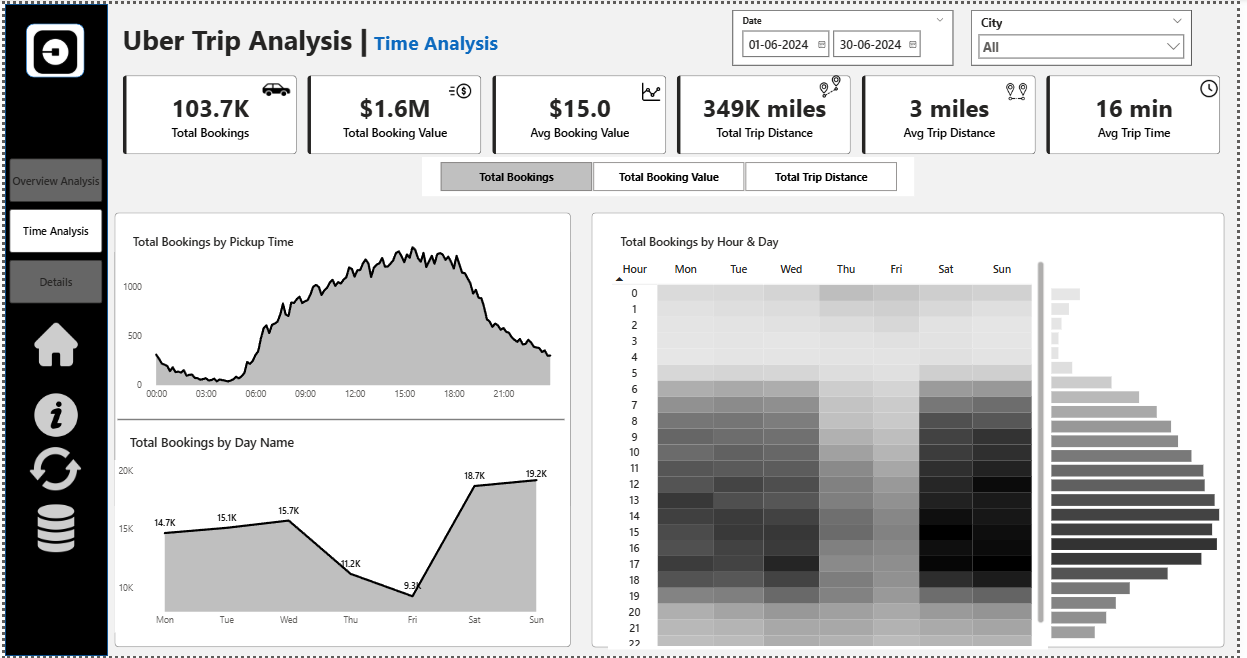

This screenshot's page, from the dashboard's own definition file:
{"tool":"powerbi","page":{"name":"Time Analysis","canvas":[1700,900],"ordinal":1},"visuals":[{"type":"shape","box":[151.2,287.8,630,600],"z":0},{"type":"shape","box":[0,0,142,900],"z":1000},{"type":"textbox","box":[157.7,17.7,607.7,66.9],"z":2000},{"type":"cardVisual","fields":{"Data":["Trip Details.Total Bookings","Trip Details.Total Booking Amount","Trip Details.Avg Booking Amount","Trip Details.Total Trip Distance","Trip Details.Avg Trip Distance","Trip Details.Avg Trip Time"]},"box":[158,93.1,1526.1,119.1],"z":3000},{"type":"image","box":[593.1,99.6,71.4,41.1],"z":4000},{"type":"image","box":[1095.3,93.1,88.8,41.1],"z":5000},{"type":"image","box":[1355.1,101.7,84.4,39],"z":6000},{"type":"image","box":[1625.7,99.6,73.6,34.6],"z":7000},{"type":"image","box":[850.7,101.7,82.3,39],"z":8000},{"type":"image","box":[316,93.1,114.7,49.8],"z":9000},{"type":"slicer","fields":{"Values":["Parameter.Parameter"]},"box":[575.6,211.2,679.2,53.8],"z":10000},{"type":"slicer","fields":{"Values":["Calendar Table.Date"]},"box":[1004.2,8.3,304.4,76.6],"z":11000},{"type":"slicer","fields":{"Values":["Location Table.City"]},"box":[1333.5,8.3,304.4,76.6],"z":12000},{"type":"areaChart","fields":{"Y":["Trip Details.Total Bookings"],"Category":["Trip Details.Pickup Hour (HH MM SS) (bins)"]},"box":[157.4,320.9,615,235],"z":13000},{"type":"cardVisual","fields":{"Data":["Trip Details.Title for by pickup time"]},"box":[159.4,292,314.7,58],"z":14000},{"type":"areaChart","fields":{"Y":["Trip Details.Total Bookings"],"Category":["Calendar Table.Day Name"]},"box":[151.2,629.5,621.2,238.1],"z":15000},{"type":"cardVisual","fields":{"Data":["Trip Details.Title for by Day Name"]},"box":[155.3,567.3,331.3,62.1],"z":16000},{"type":"shape","box":[155.3,559.1,617,29],"z":17000},{"type":"shape","box":[809.6,287.8,873.8,600.5],"z":18000},{"type":"pivotTable","fields":{"Values":["Trip Details.Total Bookings"],"Rows":["Trip Details.Pickup Hour"],"Columns":["Calendar Table.Day Name"]},"box":[832.4,349.9,606.7,540.4],"z":19000},{"type":"barChart","fields":{"Y":["Trip Details.Total Bookings"],"Category":["Trip Details.Pickup Hour"]},"box":[1439.1,378.9,244.3,521.8],"z":20000},{"type":"cardVisual","fields":{"Data":["Trip Details.Title for by Hour & Date"]},"box":[832.4,292,304.4,58],"z":21000},{"type":"shape","box":[29,26.9,80.8,74.5],"z":22000},{"type":"image","box":[29,31.1,80.8,70.4],"z":23000},{"type":"pageNavigator","box":[6.2,213.3,128.4,200.8],"z":24000},{"type":"image","box":[35.2,430.7,70.4,78.7],"z":25000},{"type":"image","box":[35.2,532.1,70.4,70.4],"z":26000},{"type":"image","box":[29,594.3,80.8,95.2],"z":27000},{"type":"image","box":[20.7,685.4,99.4,76.6],"z":28000}]}

Visuals, with their boxes on the page's 1700x900 design canvas (x1, y1, x2, y2). These are canvas units, not pixel positions in the 1247x658 screenshot, which may show the page scaled, cropped or inside an application window:
shape: select_region(151, 288, 781, 888)
shape: select_region(0, 0, 142, 900)
textbox: select_region(158, 18, 765, 85)
cardVisual - Trip Details.Total Bookings x Trip Details.Total Booking Amount: select_region(158, 93, 1684, 212)
image: select_region(593, 100, 664, 141)
image: select_region(1095, 93, 1184, 134)
image: select_region(1355, 102, 1440, 141)
image: select_region(1626, 100, 1699, 134)
image: select_region(851, 102, 933, 141)
image: select_region(316, 93, 431, 143)
slicer - Parameter.Parameter: select_region(576, 211, 1255, 265)
slicer - Calendar Table.Date: select_region(1004, 8, 1309, 85)
slicer - Location Table.City: select_region(1334, 8, 1638, 85)
areaChart - Trip Details.Total Bookings x Trip Details.Pickup Hour (HH MM SS) (bins): select_region(157, 321, 772, 556)
cardVisual - Trip Details.Title for by pickup time: select_region(159, 292, 474, 350)
areaChart - Trip Details.Total Bookings x Calendar Table.Day Name: select_region(151, 630, 772, 868)
cardVisual - Trip Details.Title for by Day Name: select_region(155, 567, 487, 629)
shape: select_region(155, 559, 772, 588)
shape: select_region(810, 288, 1683, 888)
pivotTable - Trip Details.Total Bookings x Trip Details.Pickup Hour: select_region(832, 350, 1439, 890)
barChart - Trip Details.Total Bookings x Trip Details.Pickup Hour: select_region(1439, 379, 1683, 901)
cardVisual - Trip Details.Title for by Hour & Date: select_region(832, 292, 1137, 350)
shape: select_region(29, 27, 110, 101)
image: select_region(29, 31, 110, 102)
pageNavigator: select_region(6, 213, 135, 414)
image: select_region(35, 431, 106, 509)
image: select_region(35, 532, 106, 602)
image: select_region(29, 594, 110, 690)
image: select_region(21, 685, 120, 762)
